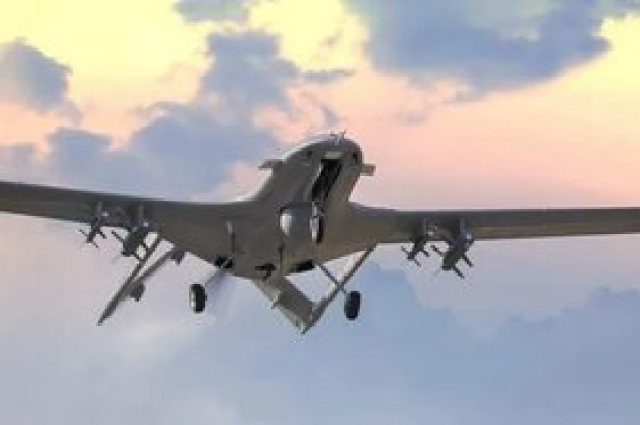military drone: (0, 128, 640, 334)
